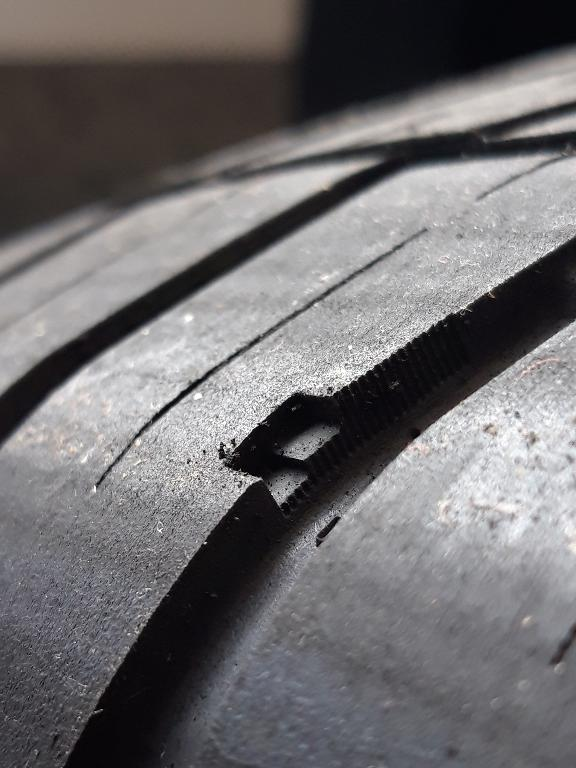temoin:50: (216, 364, 392, 524)
